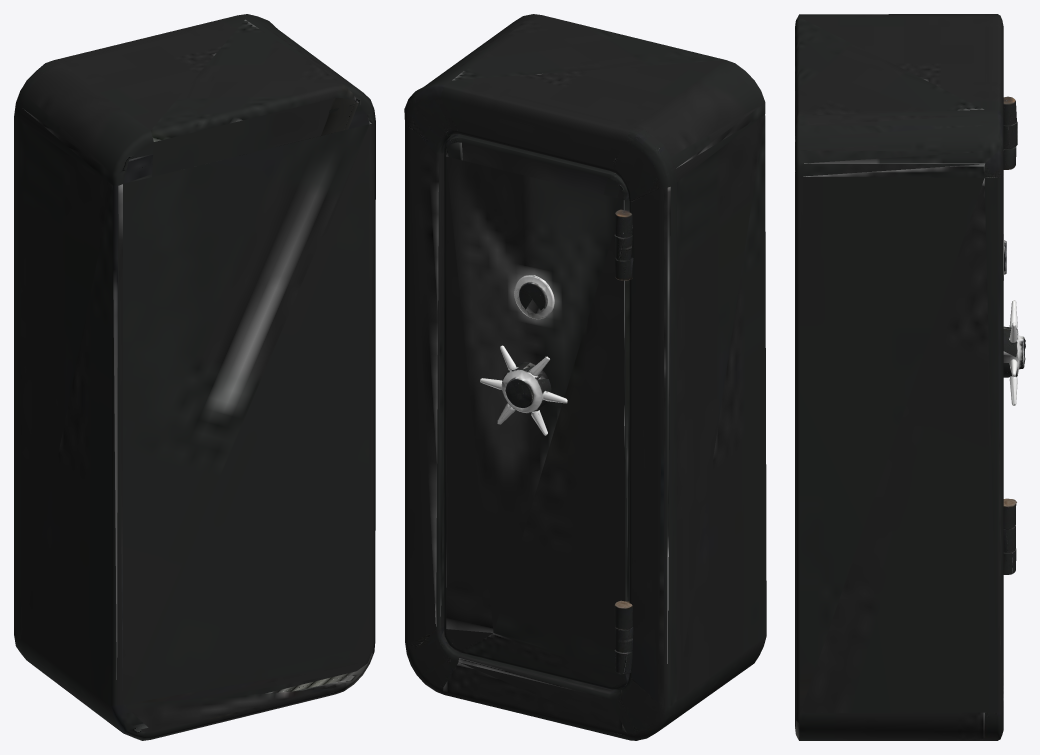
The model's file is mall-gun-safe-tall.glb.
The picture shows the model from 3 angles, left to right: view 1: azimuth 30°, elevation 25°; view 2: azimuth 150°, elevation 25°; view 3: azimuth 270°, elevation 25°; orthographic projection. The views are drawn at different scales.
Parts seen in each view (by area): view 1: gun-safe-tall; view 2: gun-safe-tall; view 3: gun-safe-tall.
Boxes of the visible parts, x1,y1,x2,y2 form: gun-safe-tall: [14, 14, 375, 740]; gun-safe-tall: [404, 14, 766, 740]; gun-safe-tall: [795, 14, 1025, 740].
Size of the model in its own units: 0.8225 by 1.8 by 0.5998.
1 material, 1 textured.
